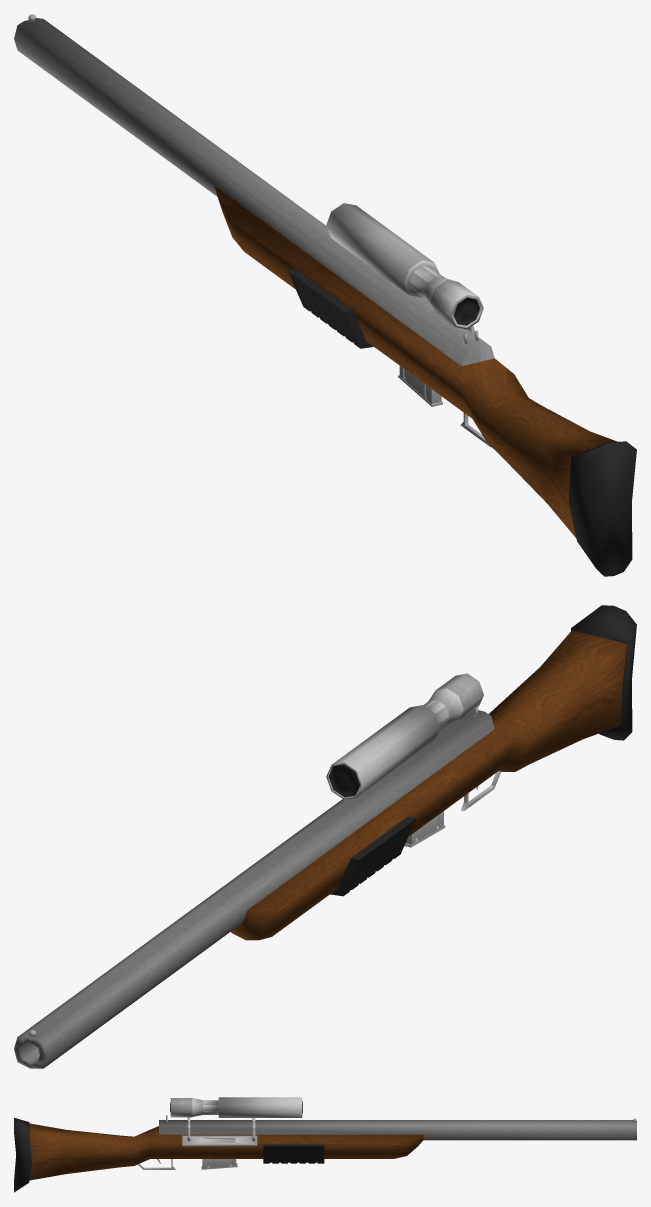
The model's file is gun_sniper1.obj.
3 renders of one model, top to bottom at view 1: azimuth 30°, elevation 25°; view 2: azimuth 150°, elevation 25°; view 3: azimuth 270°, elevation 25°, orthographic. The views are drawn at different scales.
Visible parts, largest first — view 1: Cylinder; view 2: Cylinder; view 3: Cylinder.
Boxes of the visible parts, left/top/right/bottom form: Cylinder: left=14, top=14, right=636, bottom=576; Cylinder: left=14, top=605, right=636, bottom=1068; Cylinder: left=14, top=1097, right=636, bottom=1192.
Size of the model in its own units: 0.0311 by 0.0733 by 0.4424.
